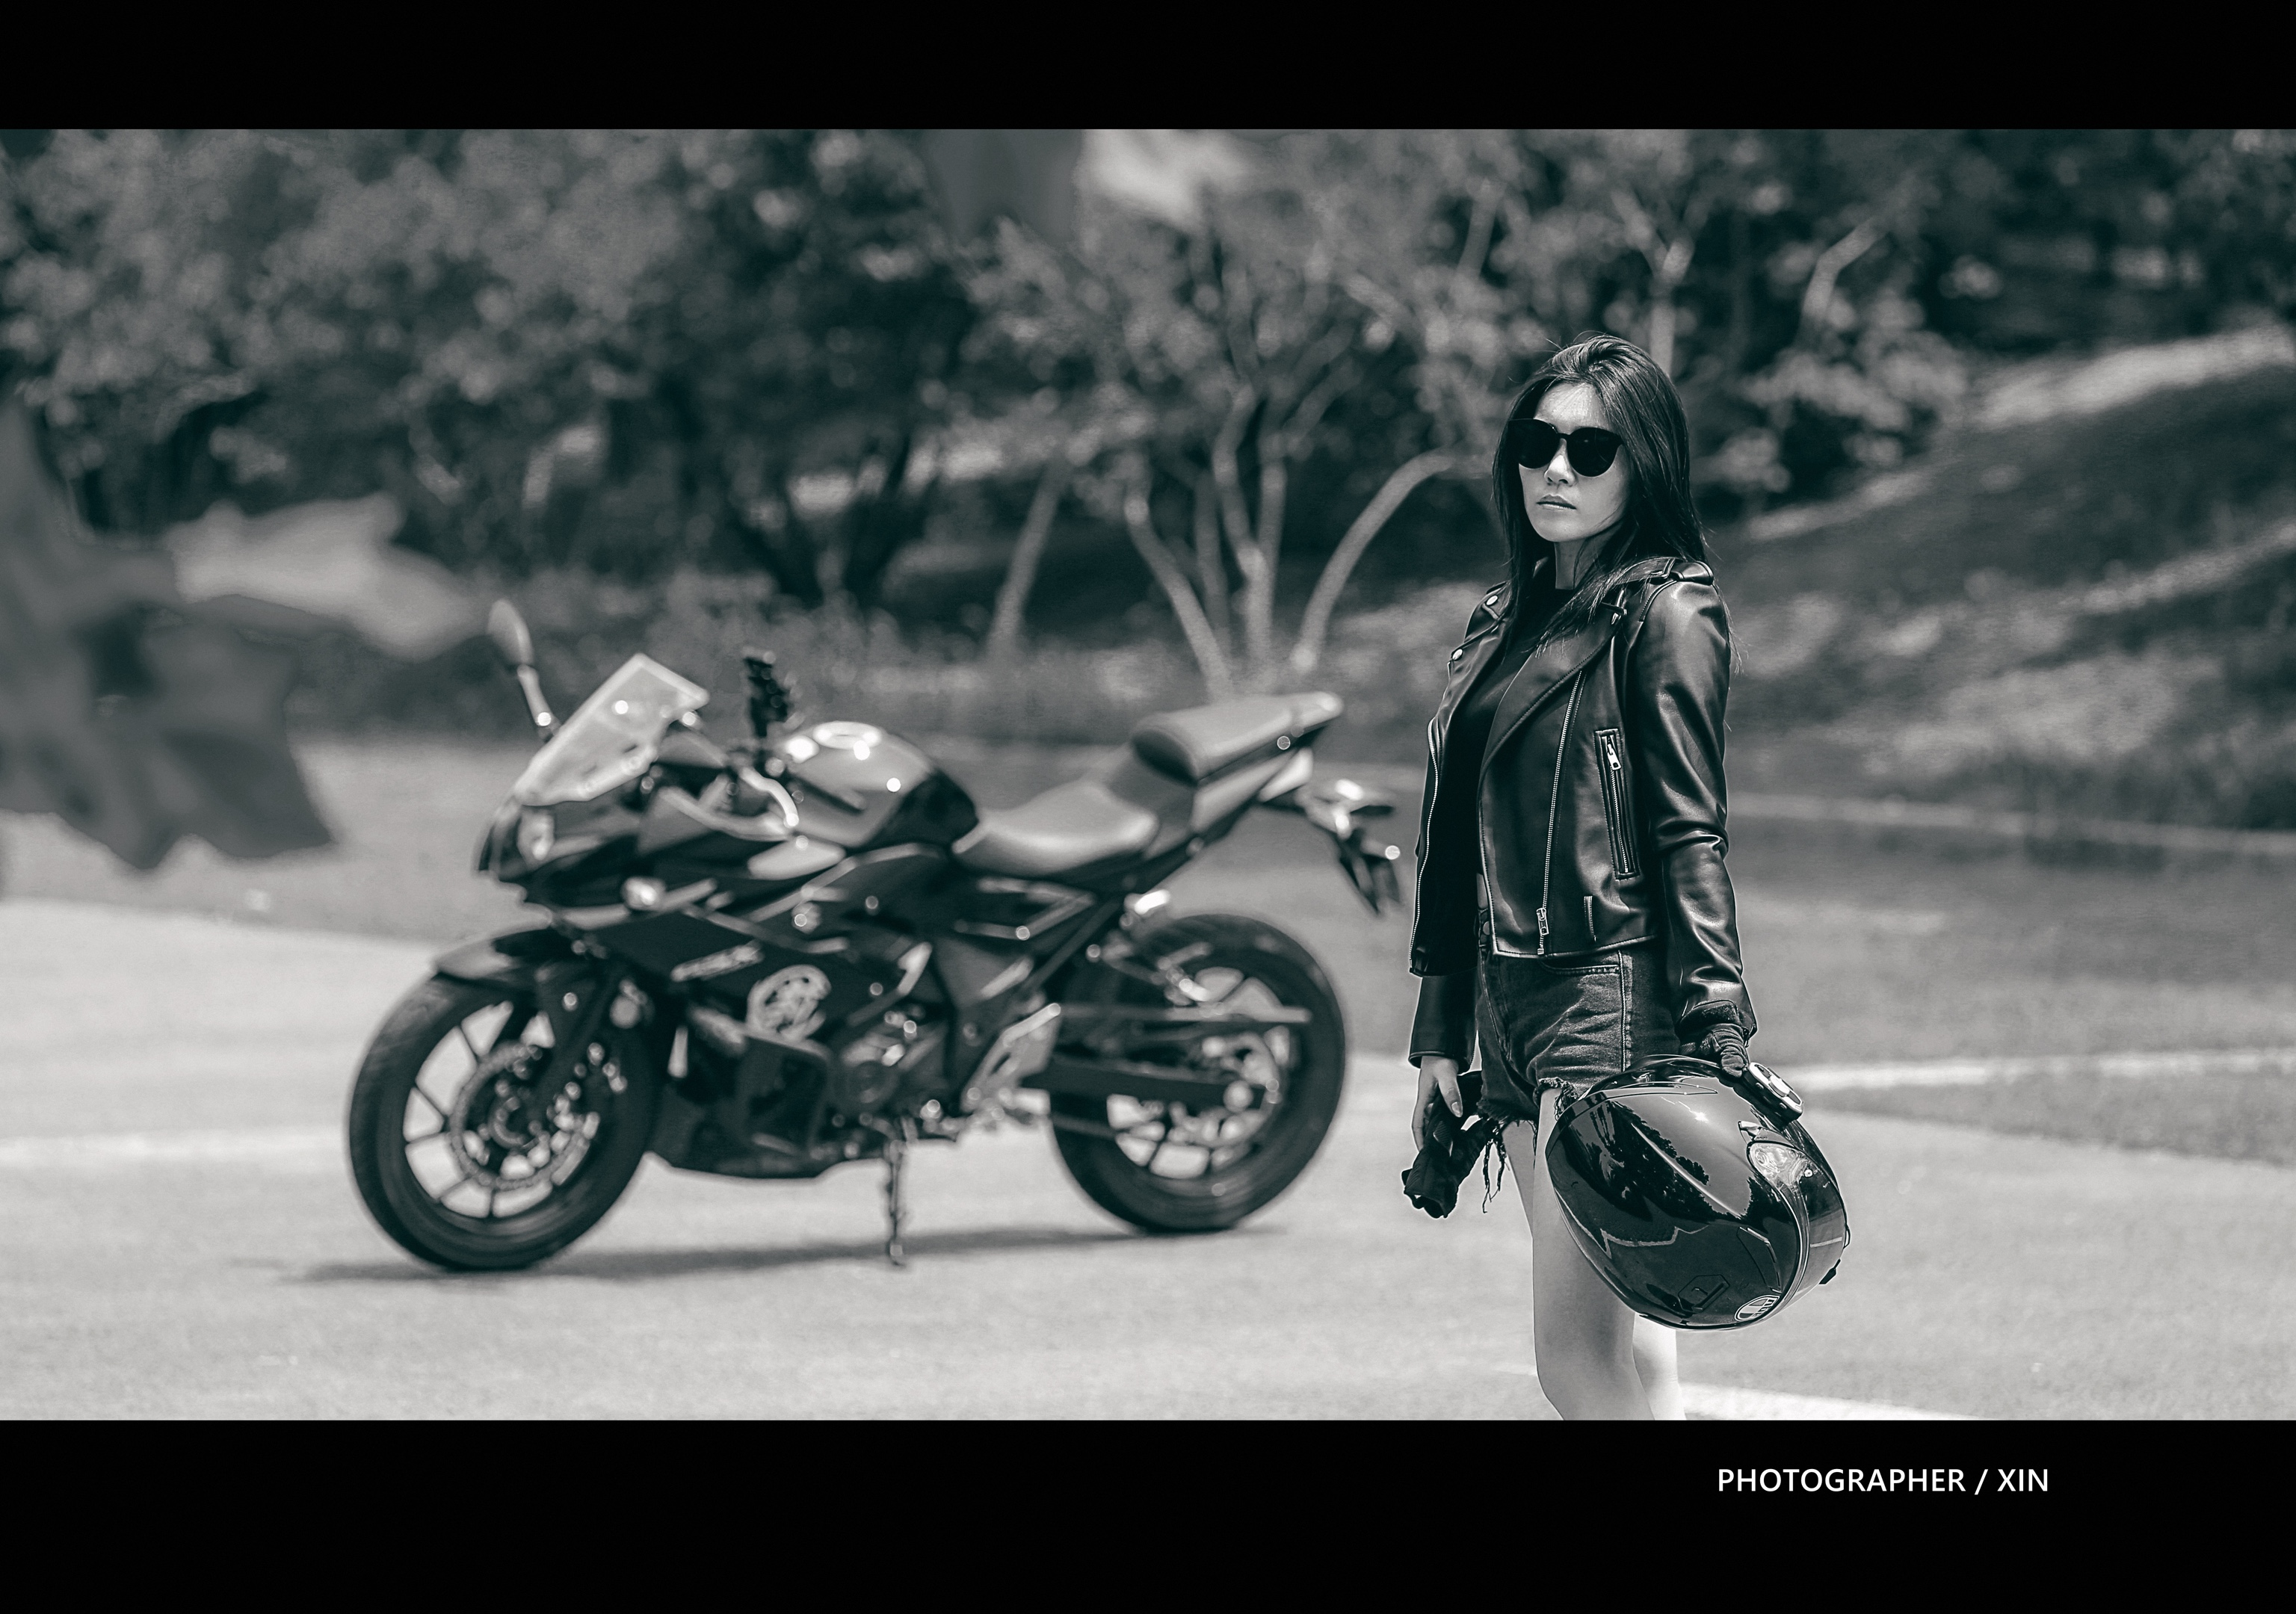ball: (1552, 1062, 1843, 1333)
